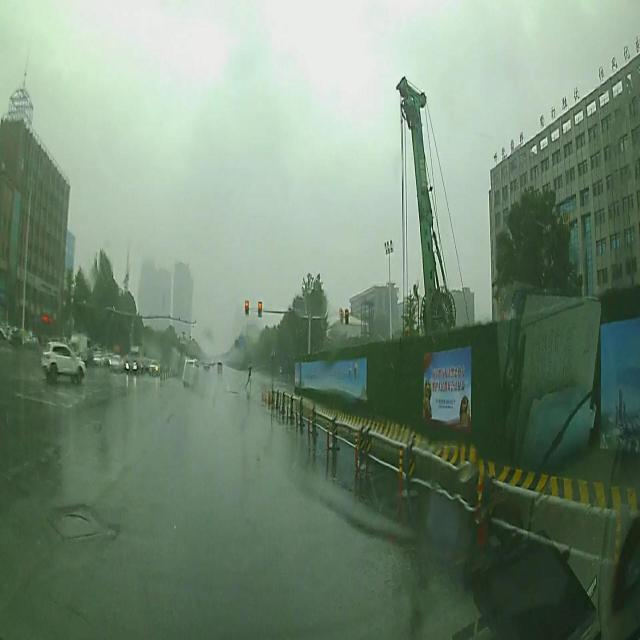car: (41, 341, 86, 383), (182, 354, 199, 387), (124, 356, 140, 378), (110, 352, 122, 372), (146, 360, 158, 377), (216, 360, 224, 377)
